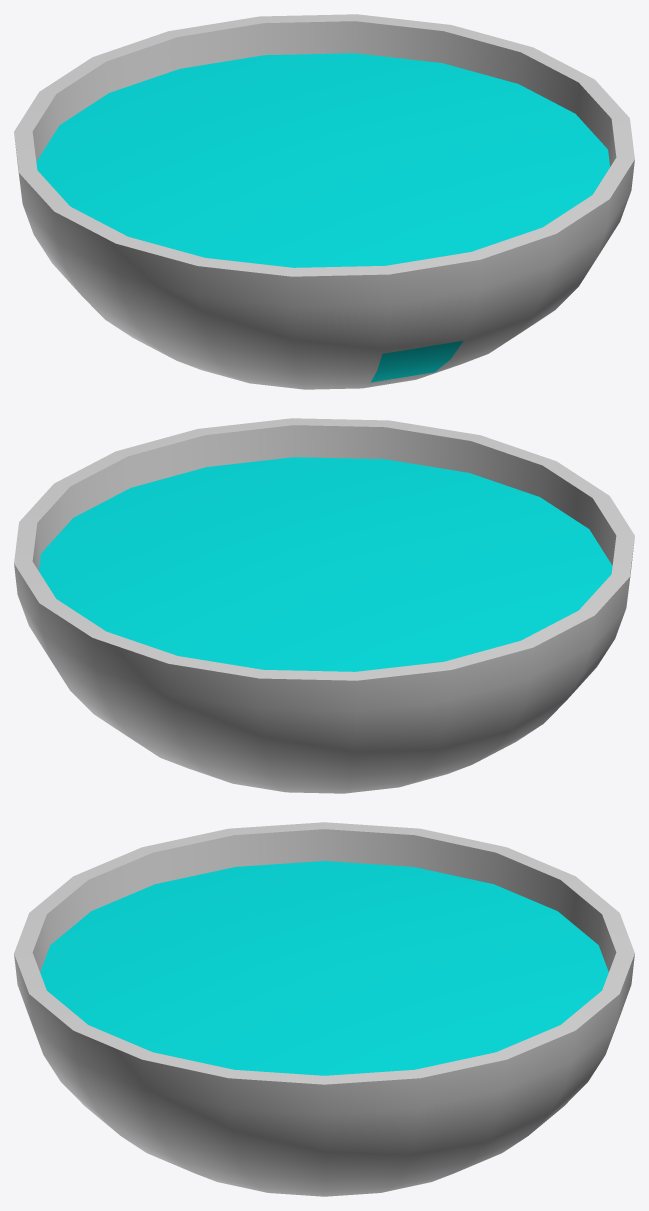
File: pond.fbx
3 renders of one model, top to bottom at view 1: azimuth 30°, elevation 25°; view 2: azimuth 150°, elevation 25°; view 3: azimuth 270°, elevation 25°, orthographic.
Parts seen in each view (by area): view 1: pSphere2; view 2: pSphere2; view 3: pSphere2.
Boxes of the visible parts, x1,y1,x2,y2 form: pSphere2: [14, 14, 634, 389]; pSphere2: [14, 418, 634, 793]; pSphere2: [14, 822, 634, 1196].
Bounding box in the file's own units: 34.95 × 12.82 × 34.95.
